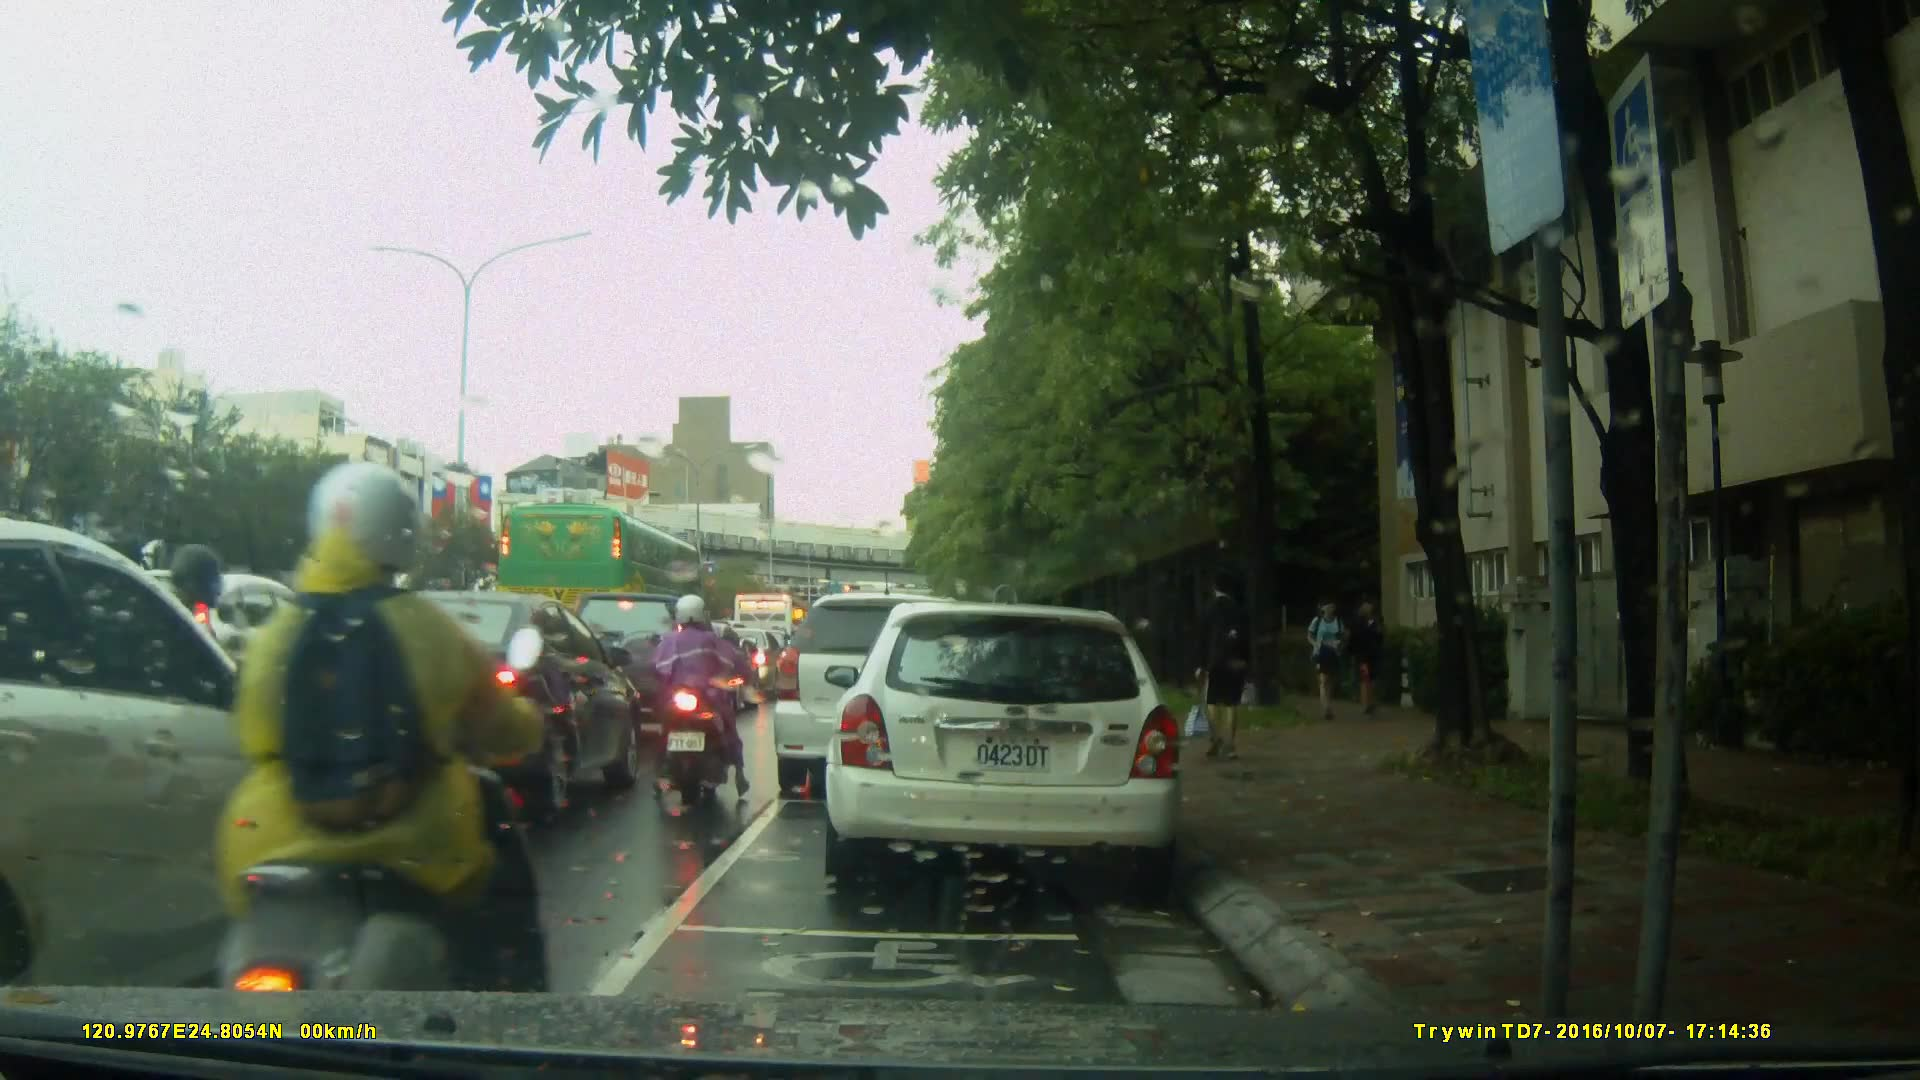pedestrian: (1188, 572, 1257, 764), (1306, 590, 1362, 724), (1344, 594, 1384, 718)
rider: (223, 456, 549, 1064), (656, 591, 752, 804), (299, 571, 390, 745)
vehicle: (1, 519, 365, 986), (831, 592, 1196, 897), (275, 588, 644, 821), (32, 567, 353, 758), (770, 592, 999, 799), (553, 579, 750, 751), (495, 502, 707, 644)
